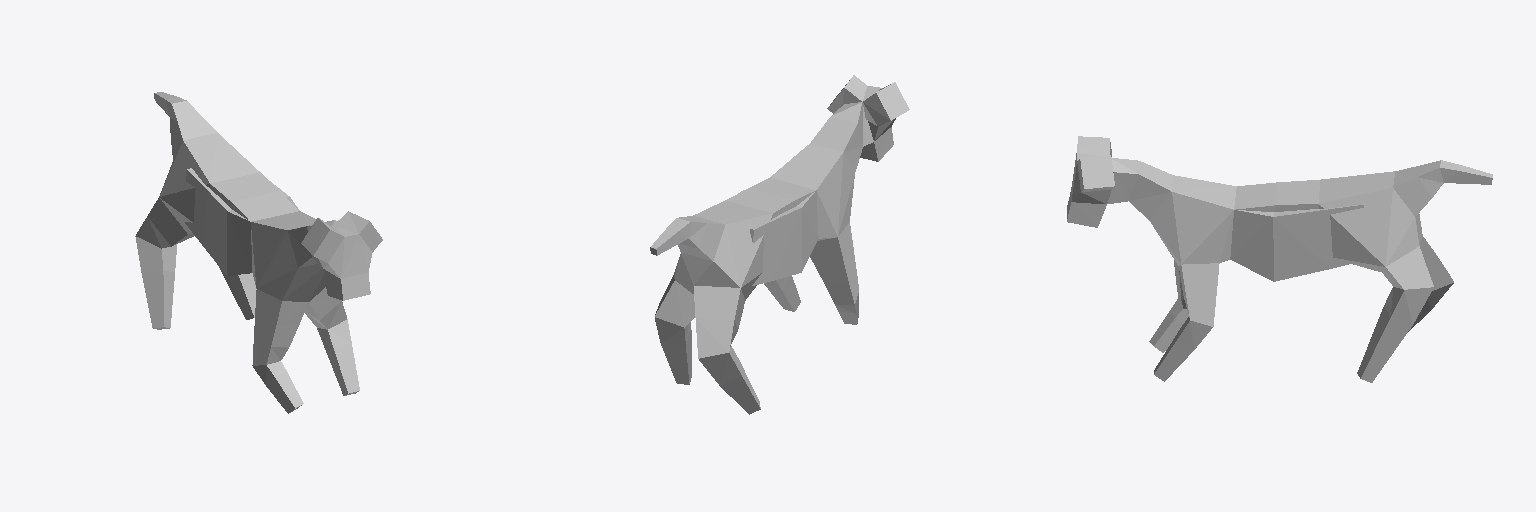
The model's file is dog.obj.
3 renders of one model, left to right at view 1: azimuth 30°, elevation 25°; view 2: azimuth 150°, elevation 25°; view 3: azimuth 270°, elevation 25°, orthographic.
Visible parts, largest first — view 1: Cube; view 2: Cube; view 3: Cube.
Part boxes in pixels (bbox=[...]): Cube: bbox=[135, 92, 382, 413]; Cube: bbox=[650, 75, 909, 414]; Cube: bbox=[1067, 136, 1492, 382].
Size of the model in its own units: 1.75 by 3.7 by 6.7.